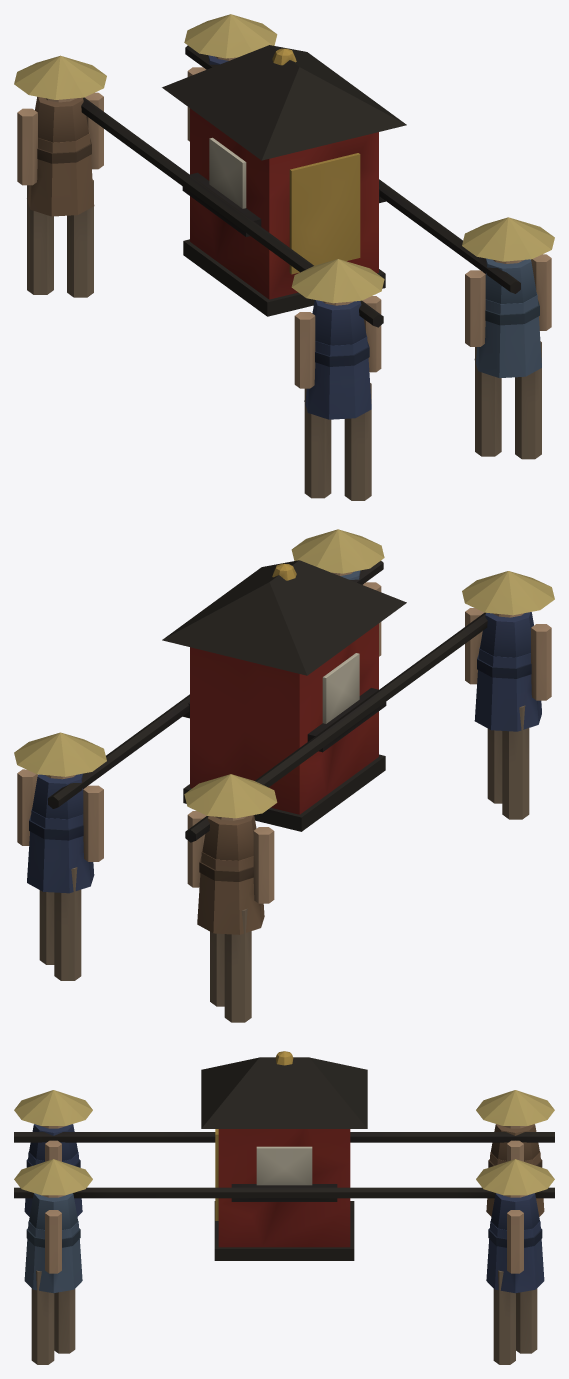
File: litter.glb
3 renders of one model, top to bottom at view 1: azimuth 30°, elevation 25°; view 2: azimuth 150°, elevation 25°; view 3: azimuth 270°, elevation 25°, orthographic. The views are drawn at different scales.
Visible parts, largest first — view 1: base; view 2: base; view 3: base.
Part boxes in pixels (x1,y1,x2,y2): base: [14, 14, 554, 500]; base: [14, 529, 554, 1022]; base: [14, 1051, 554, 1364].
Bounding box in the file's own units: 1.83 × 2.25 × 4.1.
